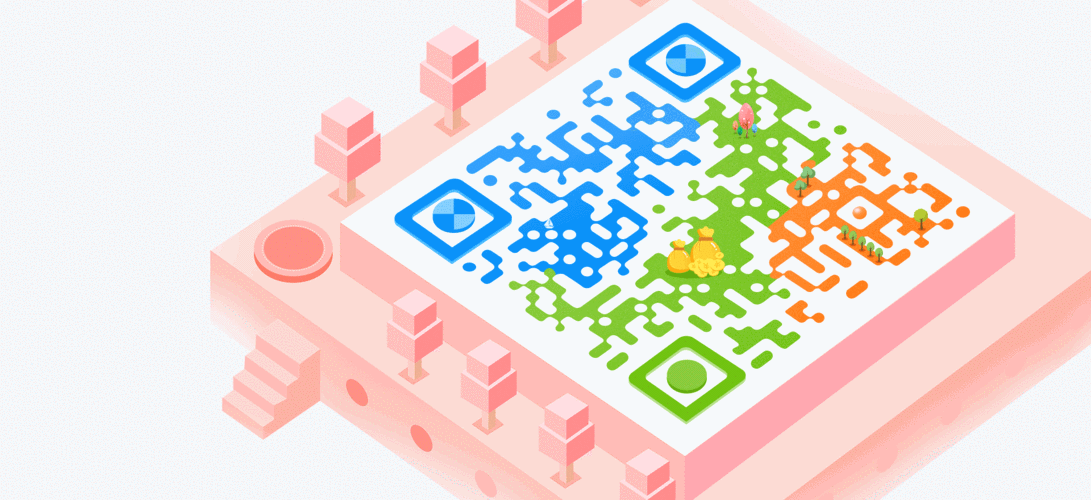QRCode: (390, 14, 978, 427)
